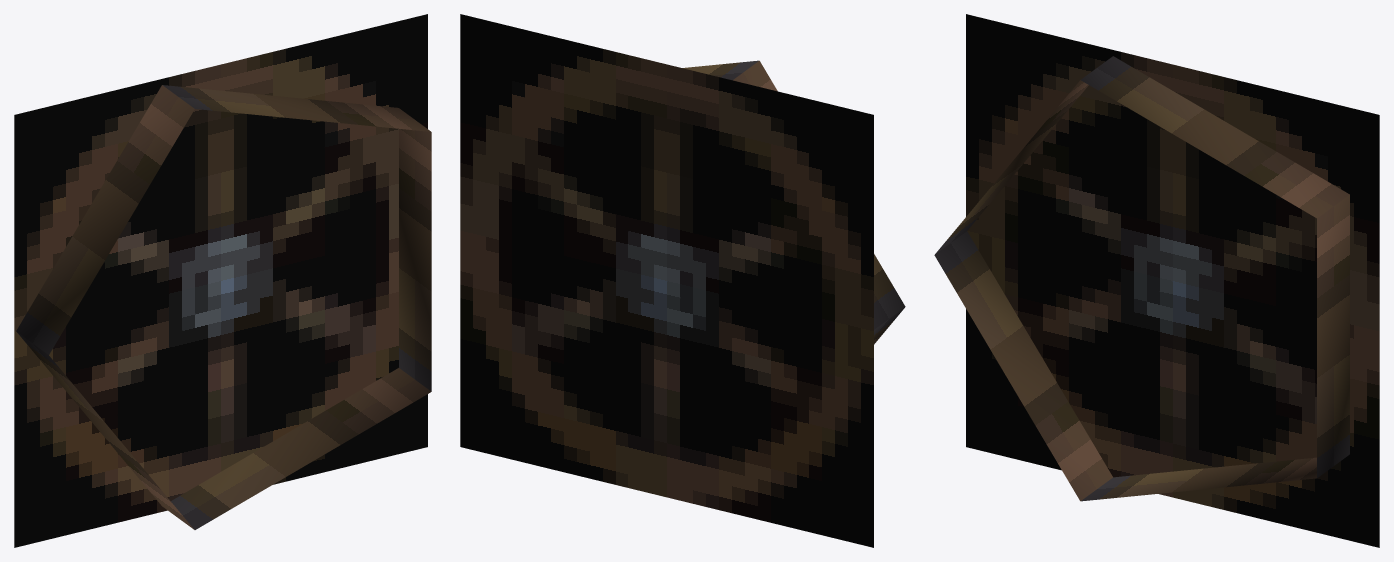
The model's file is attachments_a_wheel_spoked.glb.
The picture shows the model from 3 angles, left to right: view 1: azimuth 30°, elevation 25°; view 2: azimuth 150°, elevation 25°; view 3: azimuth 330°, elevation 25°; orthographic projection.
Parts seen in each view (by area): view 1: MeshRoot; view 2: MeshRoot; view 3: MeshRoot.
Part boxes in pixels (x1,y1,x2,y2): MeshRoot: (14, 14, 431, 547); MeshRoot: (460, 14, 905, 547); MeshRoot: (934, 14, 1379, 547).
Bounding box in the file's own units: 1.02 × 1.02 × 0.1406.
1 material, 1 textured.
